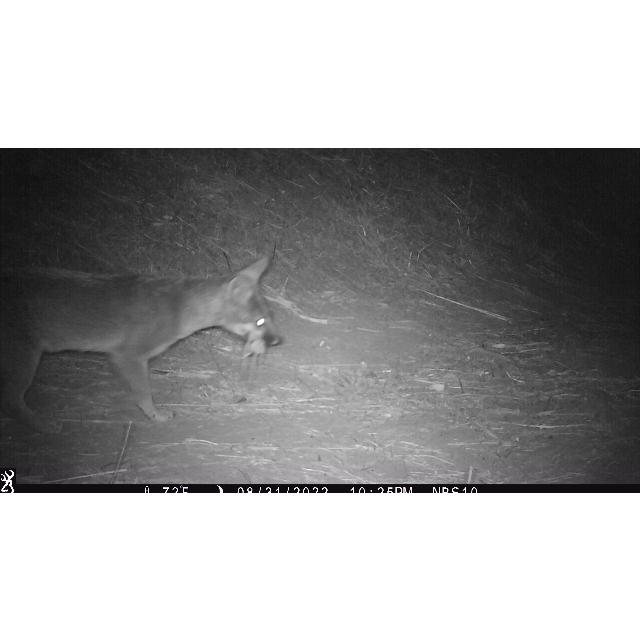animals: (1, 248, 281, 442)
